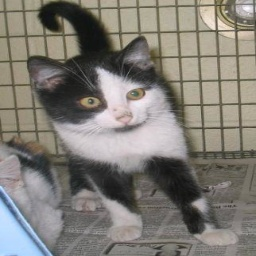cat: (23, 0, 239, 245)
